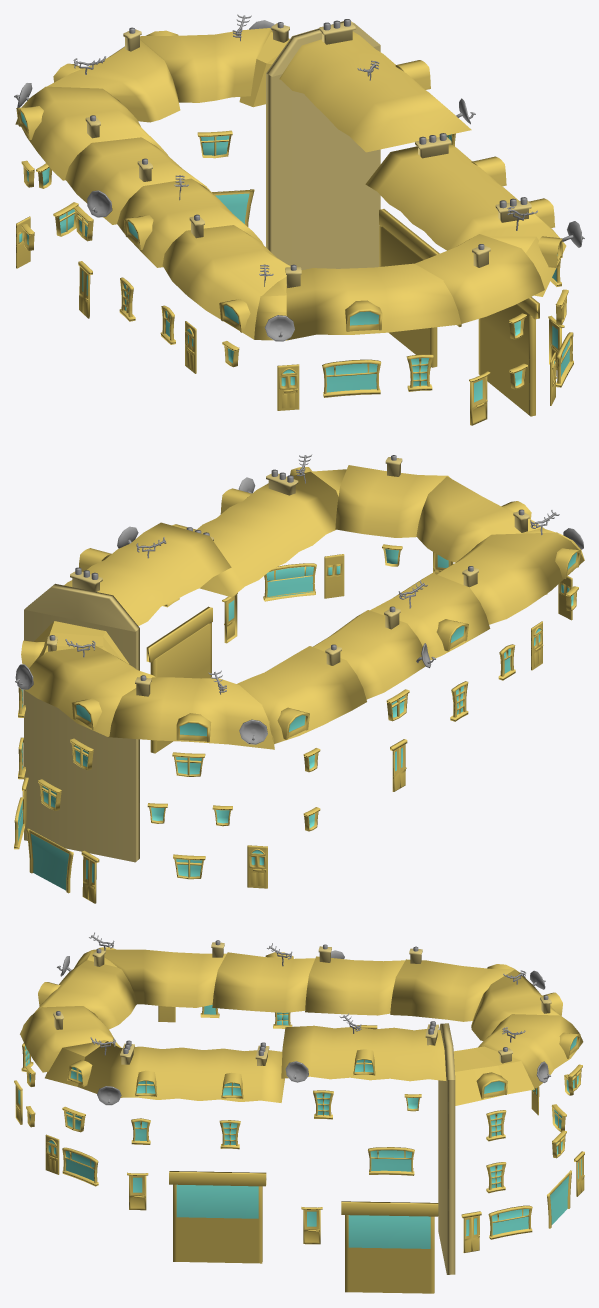
Rendered from Kyle_B_1.fbx.
The picture shows the model from 3 angles, top to bottom: view 1: azimuth 30°, elevation 25°; view 2: azimuth 150°, elevation 25°; view 3: azimuth 270°, elevation 25°; orthographic projection. The views are drawn at different scales.
Visible parts, largest first — view 1: Kyle_B_1; view 2: Kyle_B_1; view 3: Kyle_B_1.
Boxes of the visible parts, x1,y1,x2,y2 form: Kyle_B_1: (14,14,584,425); Kyle_B_1: (14,454,584,903); Kyle_B_1: (14,932,584,1293).
Bounding box in the file's own units: 1724 × 1409 × 2923.
